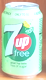sevenup: (2, 2, 42, 77)
